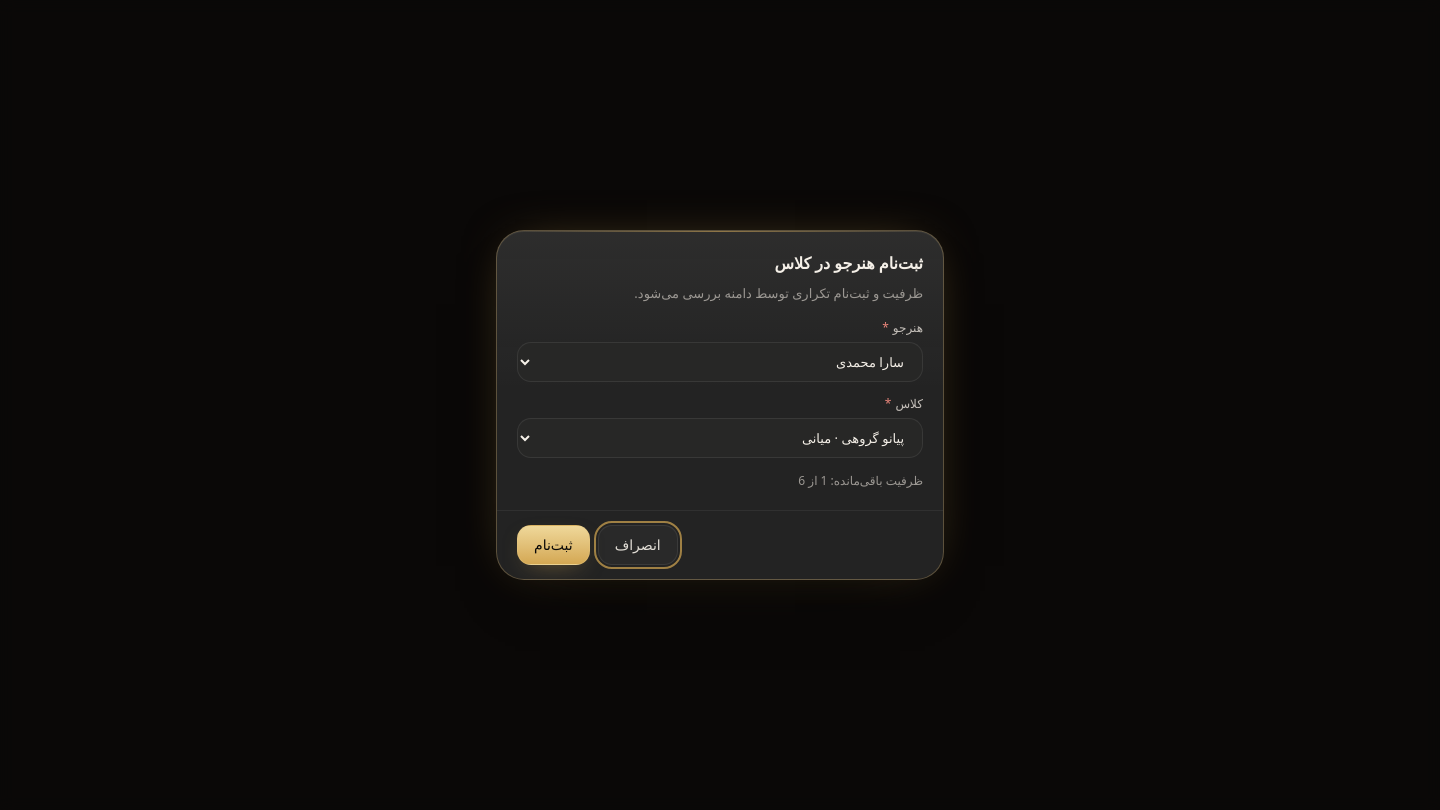
Scenario: enrollment dialog › refuses a duplicate active enrollment and shows the reason
Expected: the dropdown labelled "هنرجو*" shows "سارا محمدی", top-left (517, 342), bottom-right (923, 382)
Click the button "ثبت‌نام" at coordinates (553, 545), box top-left (517, 525), bottom-right (590, 565)
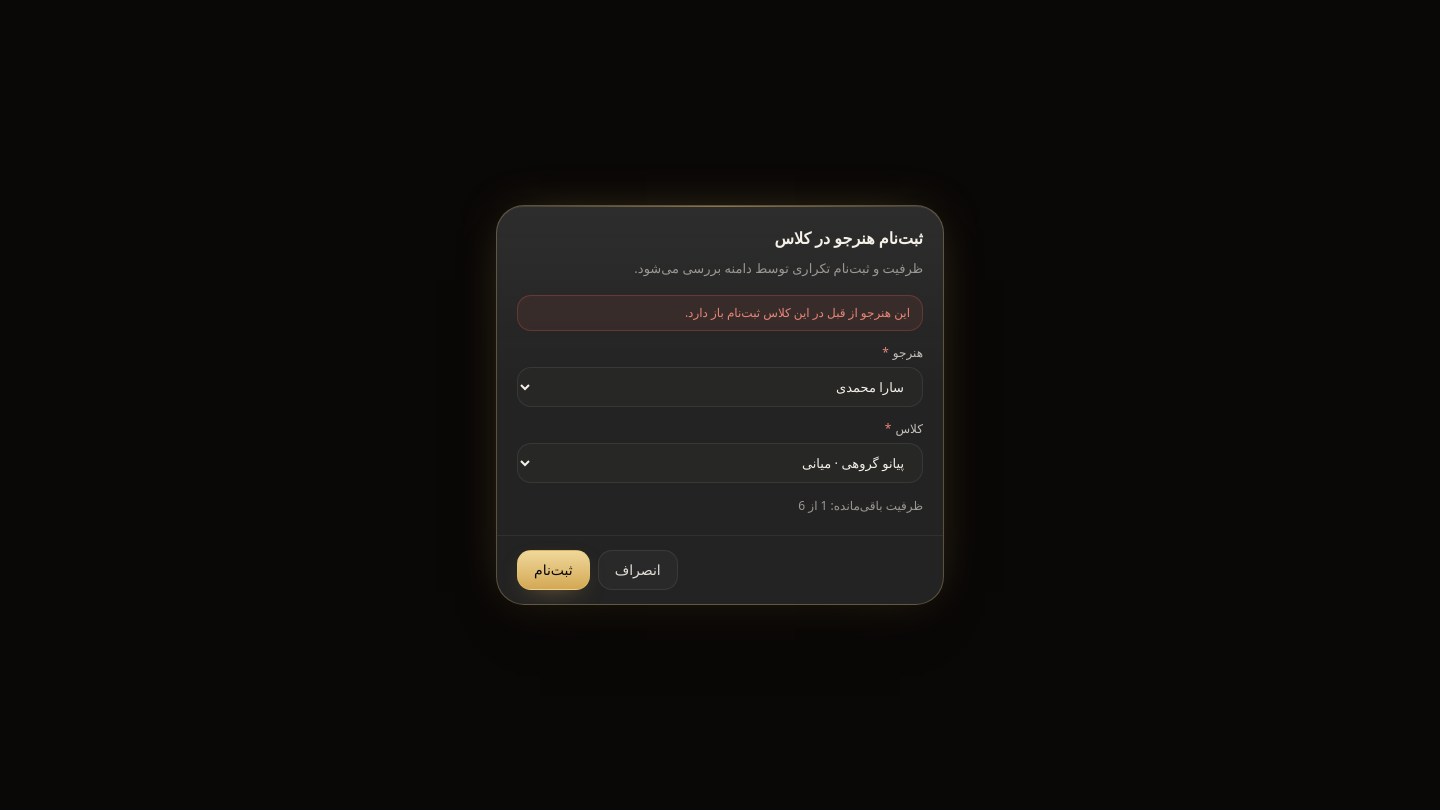
Expected: the message "این هنرجو از قبل در این کلاس ثبت‌نام باز دارد." is shown, top-left (517, 295), bottom-right (923, 331)
